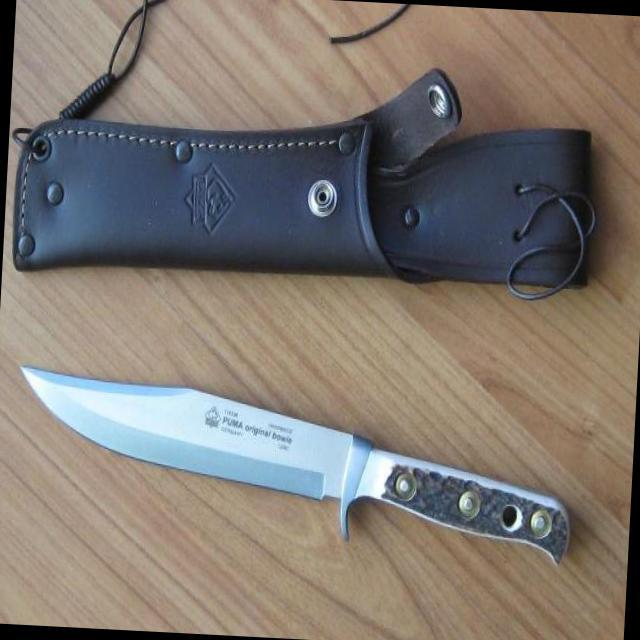Knife: (4, 351, 378, 554)
